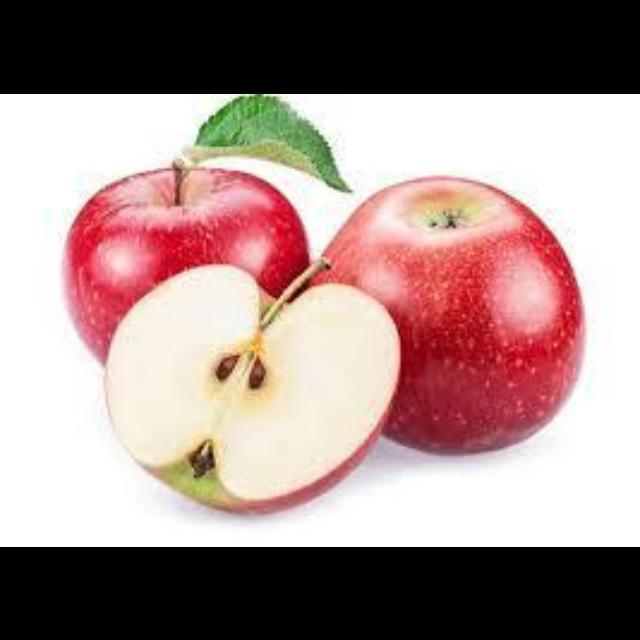apple: (314, 179, 582, 450), (105, 263, 398, 508), (65, 167, 307, 359)
